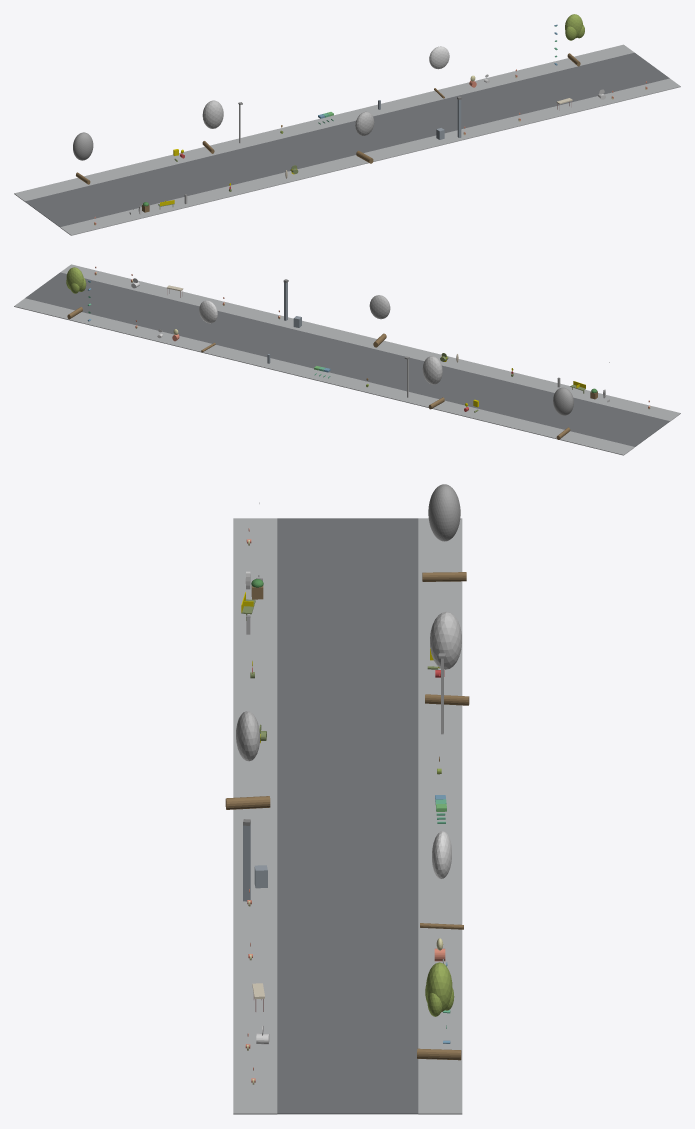
3 views of the same model, one above another, from view 1: azimuth 30°, elevation 25°; view 2: azimuth 150°, elevation 25°; view 3: azimuth 270°, elevation 25° (orthographic). The views are drawn at different scales.
Visible parts, largest first — view 1: road_slab, sidewalk_left, sidewalk_right, inst_0013, inst_0012, inst_0016, inst_0014, inst_0015; view 2: road_slab, sidewalk_right, sidewalk_left, inst_0013, inst_0012, inst_0016, inst_0014, inst_0015; view 3: road_slab, sidewalk_left, sidewalk_right, inst_0012, inst_0013, inst_0016, inst_0014, inst_0015.
Part boxes in pixels (x1=…): road_slab: x1=25, y1=52, x2=669, y2=227; sidewalk_left: x1=60, y1=78, x2=680, y2=235; sidewalk_right: x1=14, y1=44, x2=634, y2=201; inst_0013: x1=202, y1=100, x2=223, y2=153; inst_0012: x1=73, y1=132, x2=93, y2=184; inst_0016: x1=565, y1=14, x2=584, y2=66; inst_0014: x1=355, y1=111, x2=374, y2=163; inst_0015: x1=429, y1=46, x2=449, y2=98; road_slab: x1=25, y1=272, x2=669, y2=446; sidewalk_right: x1=14, y1=298, x2=634, y2=455; sidewalk_left: x1=60, y1=264, x2=680, y2=421; inst_0013: x1=422, y1=356, x2=444, y2=409; inst_0012: x1=553, y1=387, x2=573, y2=439; inst_0016: x1=66, y1=267, x2=86, y2=319; inst_0014: x1=369, y1=295, x2=390, y2=347; inst_0015: x1=199, y1=300, x2=217, y2=352; road_slab: x1=277, y1=518, x2=418, y2=1114; sidewalk_left: x1=233, y1=518, x2=277, y2=1114; sidewalk_right: x1=418, y1=518, x2=462, y2=1114; inst_0012: x1=422, y1=484, x2=466, y2=581; inst_0013: x1=425, y1=611, x2=469, y2=705; inst_0016: x1=417, y1=962, x2=461, y2=1060; inst_0014: x1=225, y1=711, x2=270, y2=809; inst_0015: x1=420, y1=831, x2=463, y2=929.
Bounding box in the file's own units: 80 × 6.08 × 13.85.
